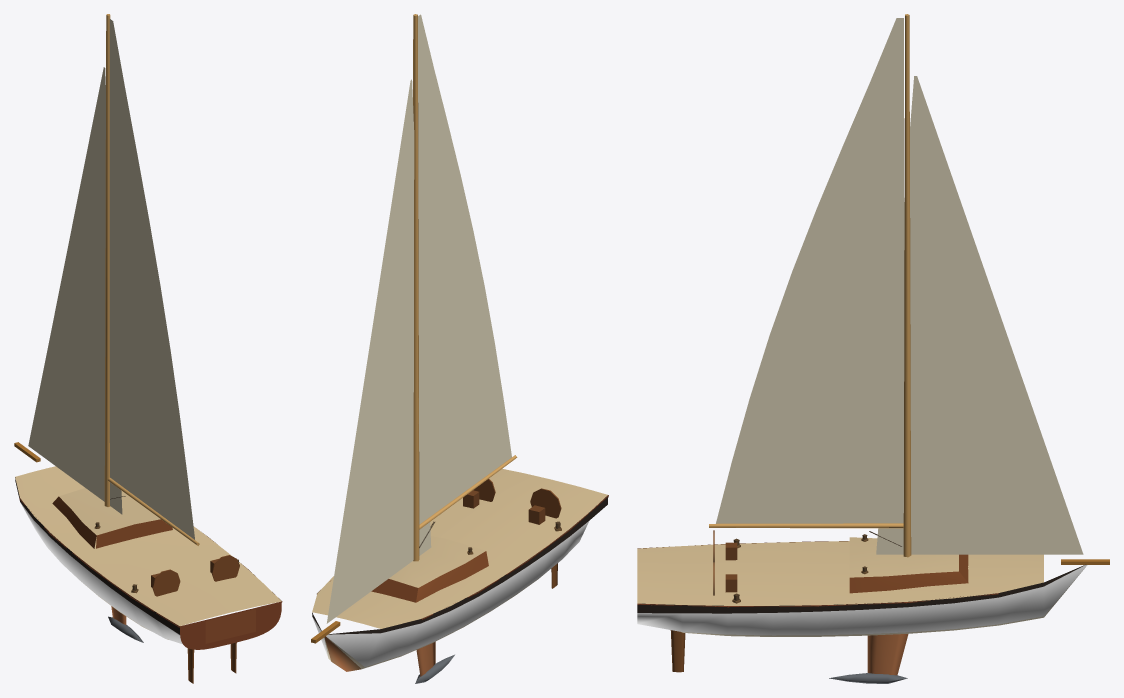
Rendered from yacht.far.glb.
The picture shows the model from 3 angles, left to right: view 1: azimuth 30°, elevation 25°; view 2: azimuth 150°, elevation 25°; view 3: azimuth 270°, elevation 25°; orthographic projection. The views are drawn at different scales.
Parts seen in each view (by area): view 1: hull, sail, jib, mast, wheel-port, wheel-starboard, boom; view 2: sail, hull, jib, mast, wheel-port, boom, daggerboard; view 3: sail, jib, hull, mast, daggerboard, boom.
Boxes of the visible parts, x1=… form: hull: x1=14, y1=442, x2=282, y2=649; sail: x1=109, y1=19, x2=194, y2=539; jib: x1=28, y1=67, x2=122, y2=514; mast: x1=104, y1=14, x2=110, y2=506; wheel-port: x1=152, y1=569, x2=180, y2=596; wheel-starboard: x1=211, y1=555, x2=239, y2=581; boom: x1=108, y1=477, x2=199, y2=545; sail: x1=418, y1=14, x2=511, y2=524; hull: x1=311, y1=468, x2=608, y2=671; jib: x1=326, y1=79, x2=431, y2=623; mast: x1=413, y1=14, x2=419, y2=561; wheel-port: x1=530, y1=488, x2=561, y2=518; boom: x1=419, y1=455, x2=517, y2=529; daggerboard: x1=416, y1=642, x2=435, y2=676; sail: x1=716, y1=18, x2=903, y2=523; jib: x1=876, y1=76, x2=1083, y2=554; hull: x1=637, y1=534, x2=1109, y2=636; mast: x1=903, y1=14, x2=911, y2=557; daggerboard: x1=867, y1=634, x2=908, y2=675; boom: x1=709, y1=523, x2=903, y2=528.
Bounding box in the file's own units: 4.04 × 19.58 × 12.54.
